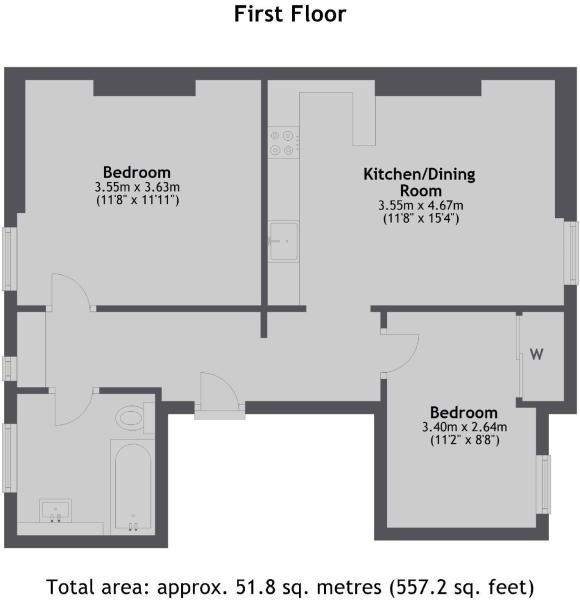GrossArea: (44, 574, 538, 600)
